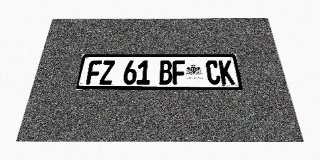1: (137, 60, 150, 84)
6: (123, 60, 137, 84)
B: (159, 60, 172, 84)
C: (205, 60, 221, 84)
F: (86, 61, 102, 84), (172, 60, 186, 84)
K: (218, 60, 235, 84)
Z: (99, 61, 115, 84)
